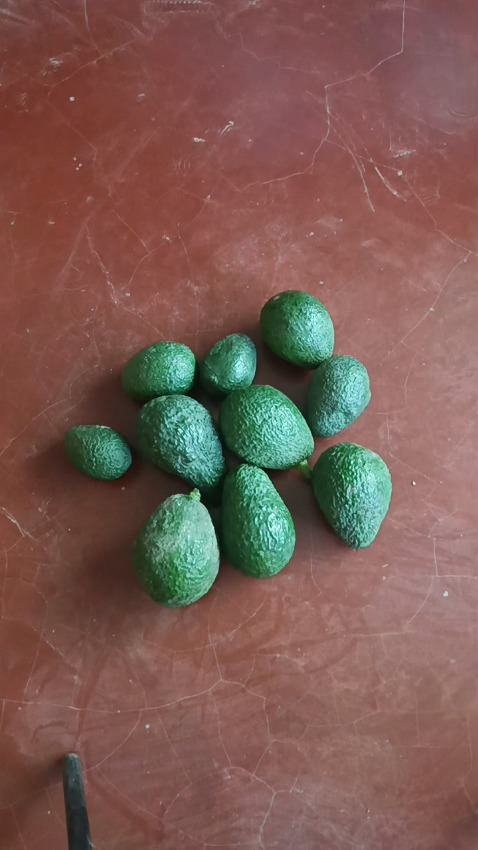Primera: (131, 494, 221, 606), (134, 394, 228, 489), (310, 443, 393, 548), (219, 464, 296, 576), (219, 385, 315, 470)
Segunda: (259, 289, 335, 366), (304, 354, 372, 438)
Tercera: (121, 341, 197, 402), (199, 333, 259, 398), (64, 424, 133, 480)
